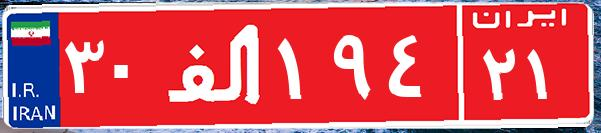0: (110, 28, 158, 105)
1: (273, 28, 330, 110), (525, 38, 570, 115)
2: (475, 38, 525, 113)
3: (57, 26, 110, 107)
4: (385, 28, 445, 110)
9: (330, 28, 385, 110)
الف: (158, 15, 273, 115)
